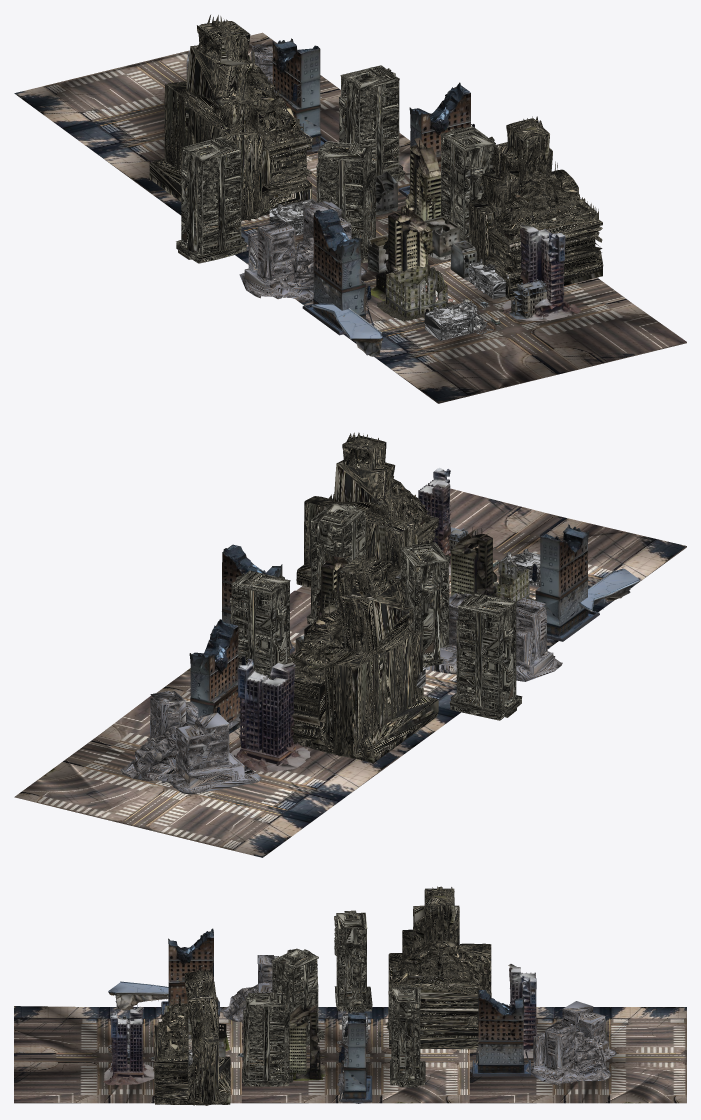
The model's file is ruin.glb.
3 views of the same model, one above another, from view 1: azimuth 30°, elevation 25°; view 2: azimuth 150°, elevation 25°; view 3: azimuth 270°, elevation 25° (orthographic). The views are drawn at different scales.
Bounding box in the file's own units: 98.93 × 58.06 × 245.
Materials: 16 (16 with a texture image).
